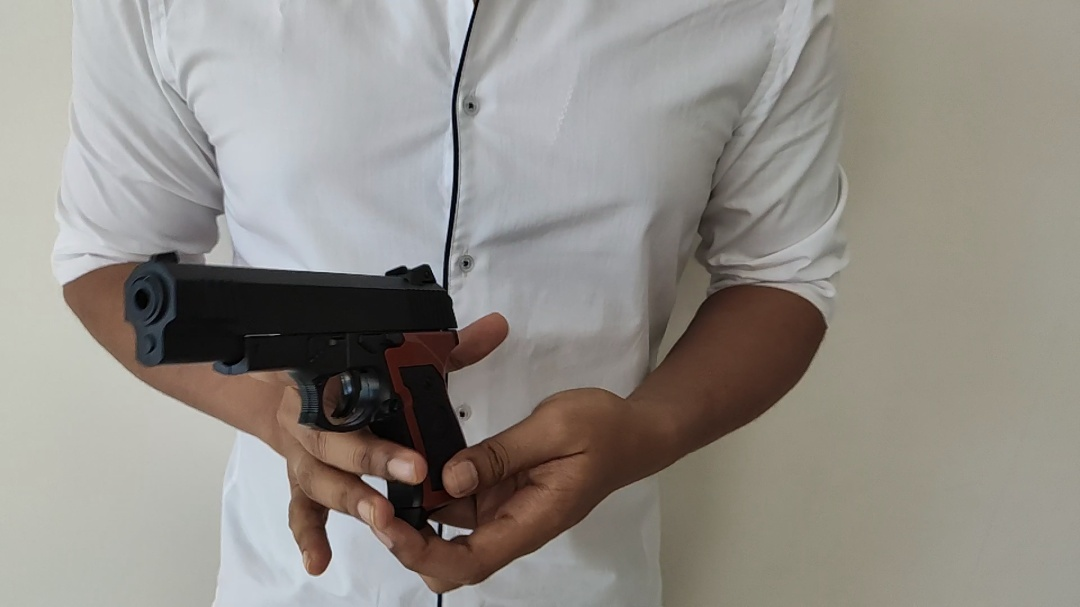gun: (315, 75, 776, 585)
